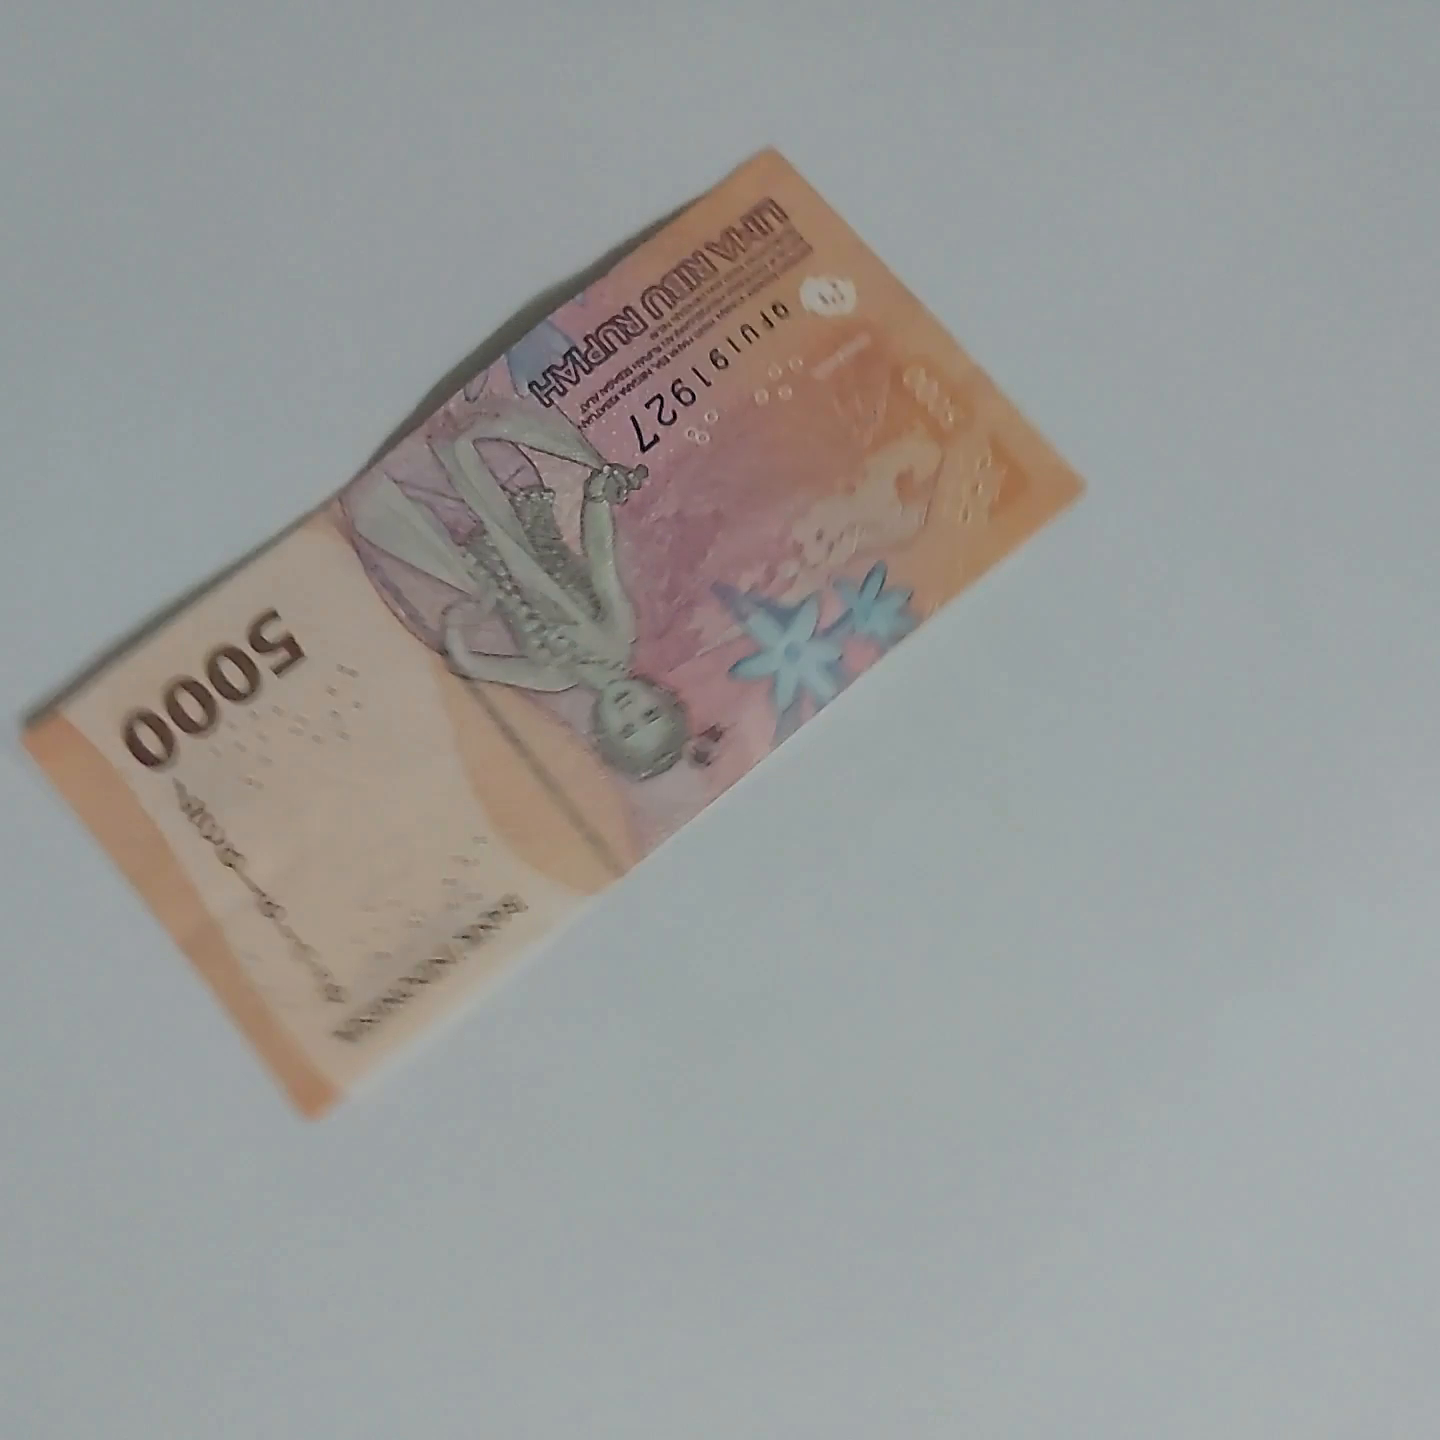5k: (0, 111, 1117, 1126)
